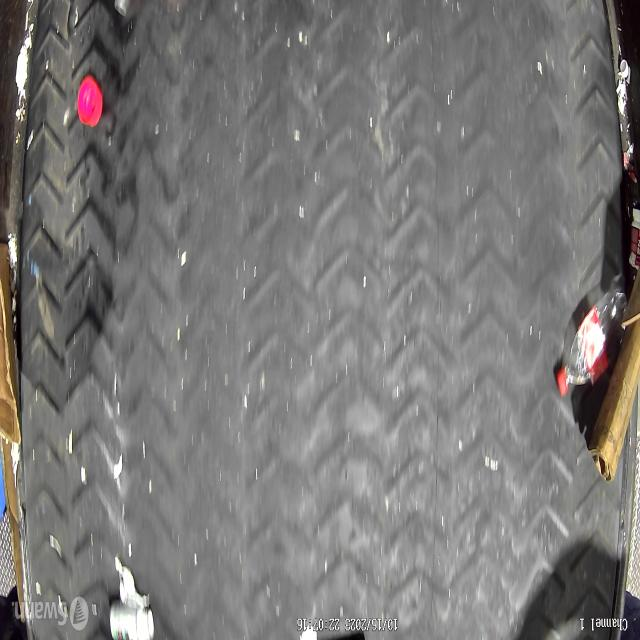plastic_bottle: (556, 285, 626, 396)
